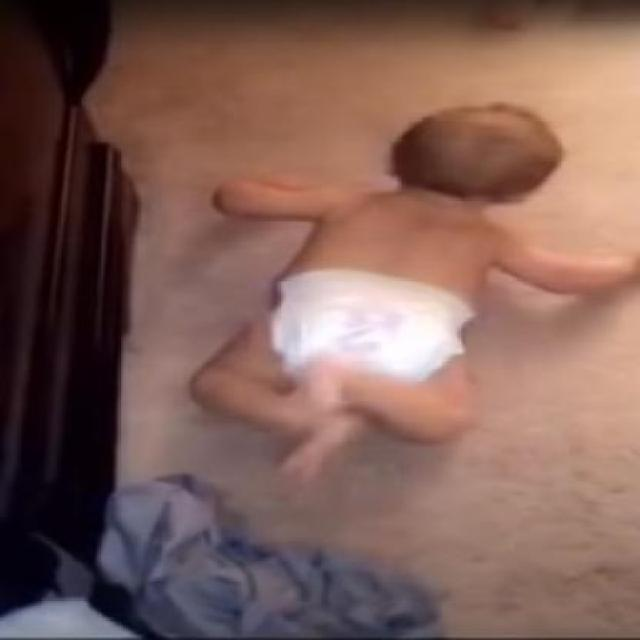non-dog: (180, 99, 640, 488)
